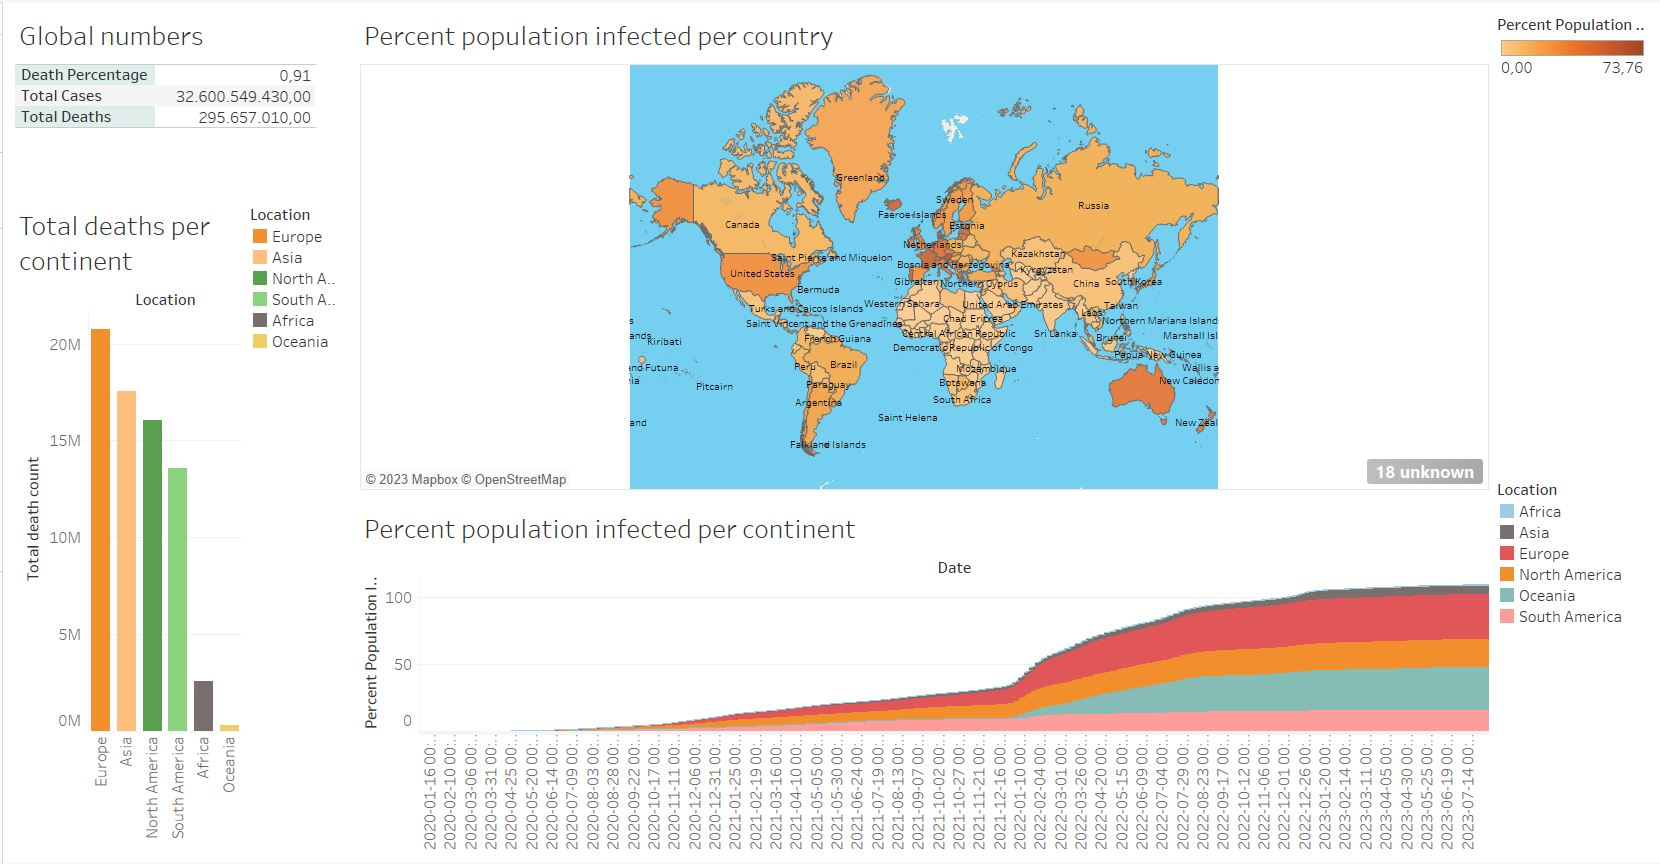

What the dashboard file says about the page in this screenshot:
{"tool":"tableau","page":{"name":"Dashboard 1","canvas":[1000,1000],"units":"permille","ordinal":0},"visuals":[{"type":"worksheet","title":"Sheet 1","mark":"Automatic","box":[4.8,9.3,208,220.7]},{"type":"worksheet","title":"Sheet 3","mark":"Automatic","box":[212.9,9.3,686.2,562.1]},{"type":"legend","title":"Sheet 3","param":"[federated.0hhoffr1kuolfm1bt6ios0ol0y3j].[sum:Percent Population infected:qk]","box":[899,9.3,96.1,540.1]},{"type":"worksheet","title":"Sheet 2","mark":"Automatic","rows":["Total death count"],"cols":["Location"],"box":[4.8,230,142,760.7]},{"type":"legend","title":"Sheet 2","param":"[federated.1p8e4ls02qlymc1anrb1006d7fmq].[none:Location:nk]","box":[146.8,230,66.1,760.7]},{"type":"legend","title":"Sheet 4","param":"[federated.0cu05qr1us4pym17o2t1y0lrpt28].[none:Location:nk]","box":[899,549.4,96.1,441.4]},{"type":"worksheet","title":"Sheet 4","mark":"Automatic","rows":["PercentPopulationInfected"],"cols":["date"],"box":[212.9,581.9,686.2,408.8]}]}

Visuals, with their boxes on the dashboard's canvas, which has no fixed pixel size, in thousandths of its width and height (x1, y1, x2, y2). These are canvas units, not pixel positions in the 1660x864 screenshot, which may show the page scaled, cropped or inside an application window:
"Sheet 1" worksheet: bbox=[5, 9, 213, 230]
"Sheet 3" worksheet: bbox=[213, 9, 899, 571]
"Sheet 3" legend: bbox=[899, 9, 995, 549]
"Sheet 2" worksheet: bbox=[5, 230, 147, 991]
"Sheet 2" legend: bbox=[147, 230, 213, 991]
"Sheet 4" legend: bbox=[899, 549, 995, 991]
"Sheet 4" worksheet: bbox=[213, 582, 899, 991]
